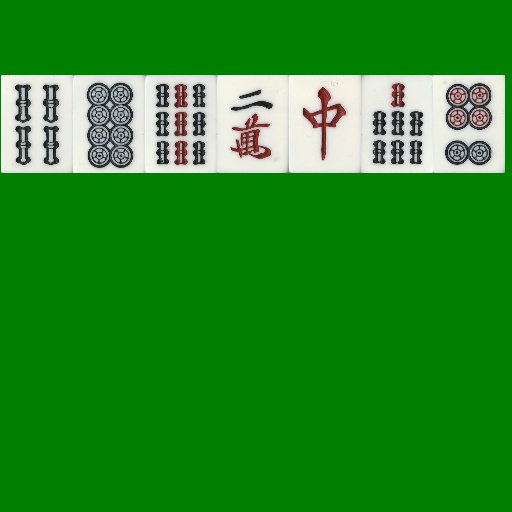2m: (217, 75, 289, 173)
4s: (1, 75, 73, 173)
6p: (433, 75, 505, 173)
7s: (361, 75, 433, 173)
8p: (73, 75, 145, 173)
9s: (145, 75, 217, 173)
tyun: (289, 75, 361, 173)
